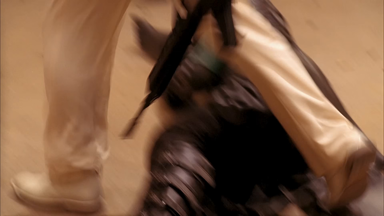firearm: (117, 1, 239, 140)
